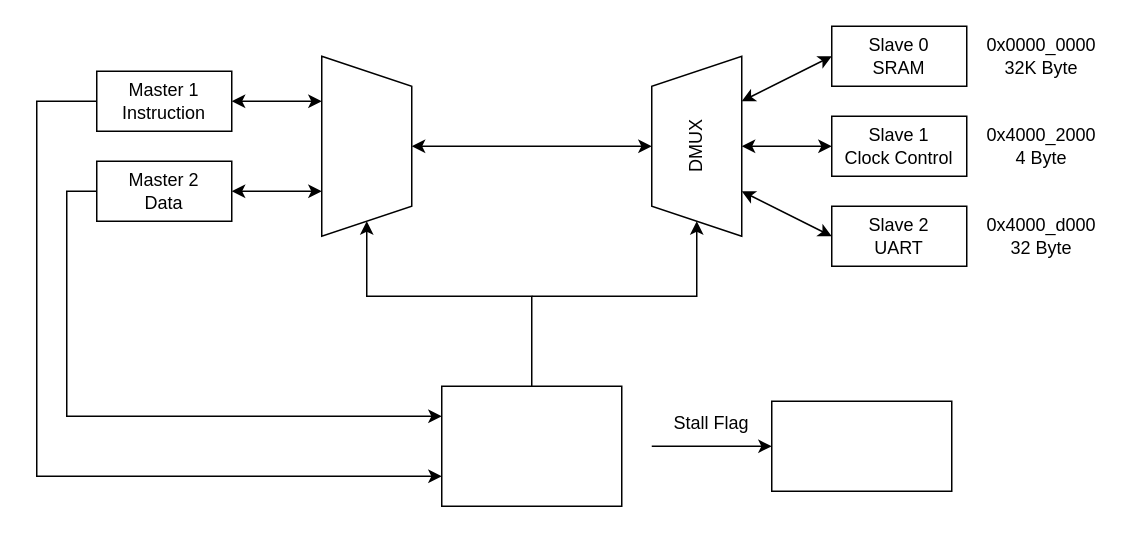
The diagram is 1143 pixels wide and 533 high, and some of its shapes have lost their labels. The shapes that lost their labels are listed below. From the top down, each one's centre as x and y in pixels, then its label:
the point at 366,145: MUX
the point at 531,445: Arbiter
the point at 861,445: TinyRISCV Core
